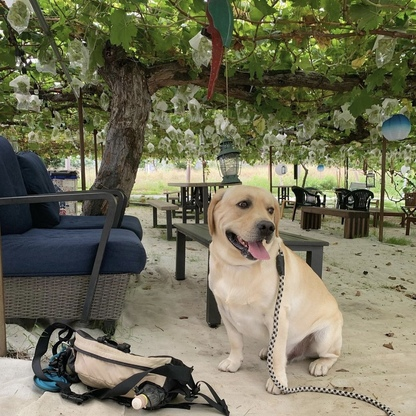labrado: (203, 182, 348, 398)
